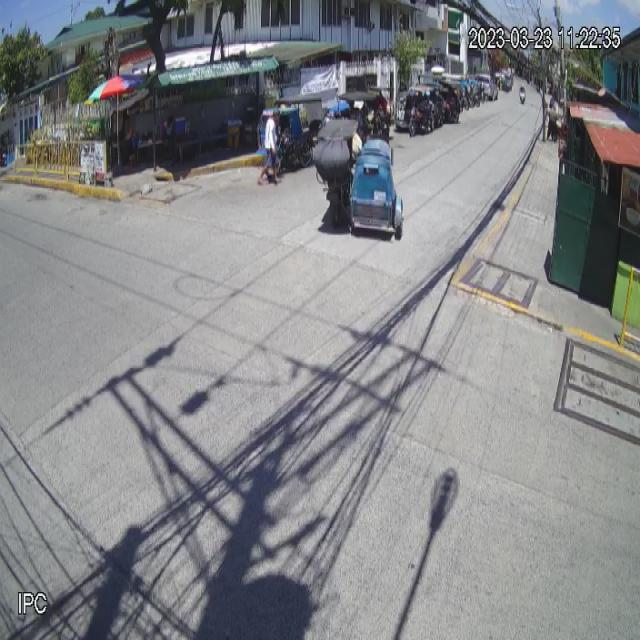Tricycle: (312, 112, 404, 243)
